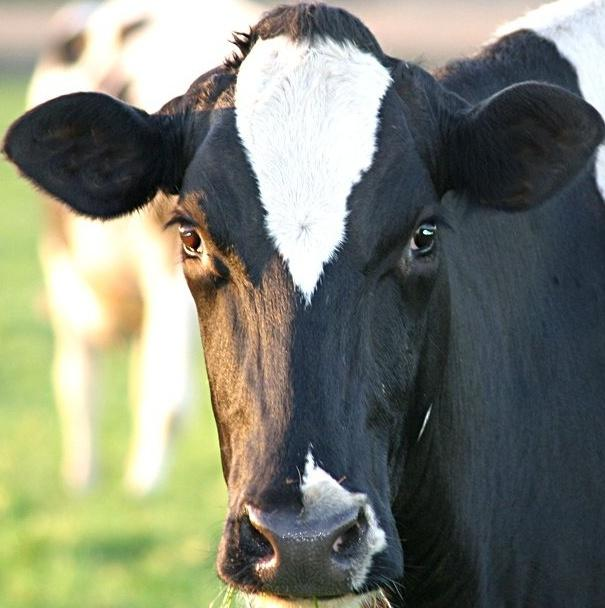muzzles: (214, 495, 413, 605)
